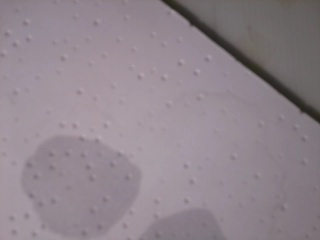Water_detected: (46, 153, 128, 215)
